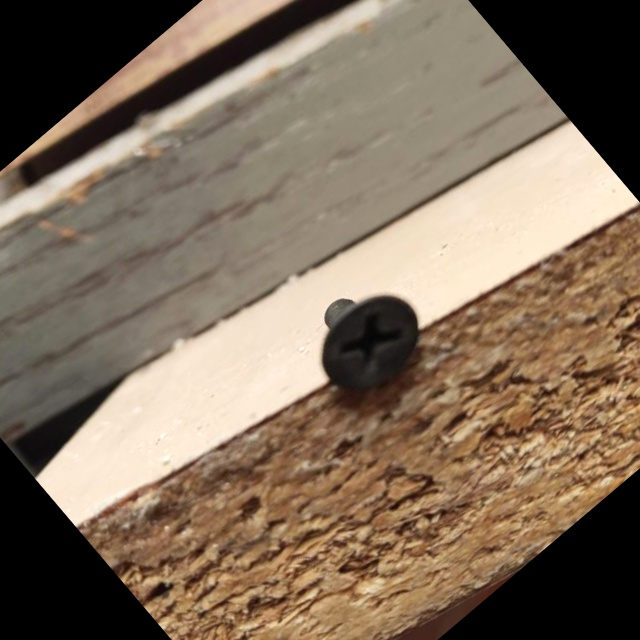phillips: (303, 277, 439, 410)
